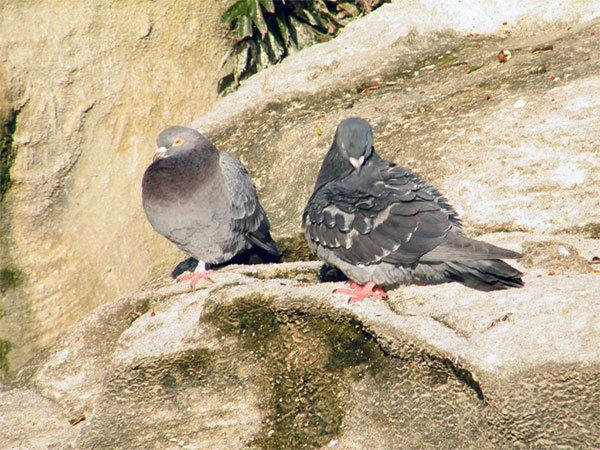Flying Rat: (306, 121, 504, 322), (138, 117, 279, 292)
